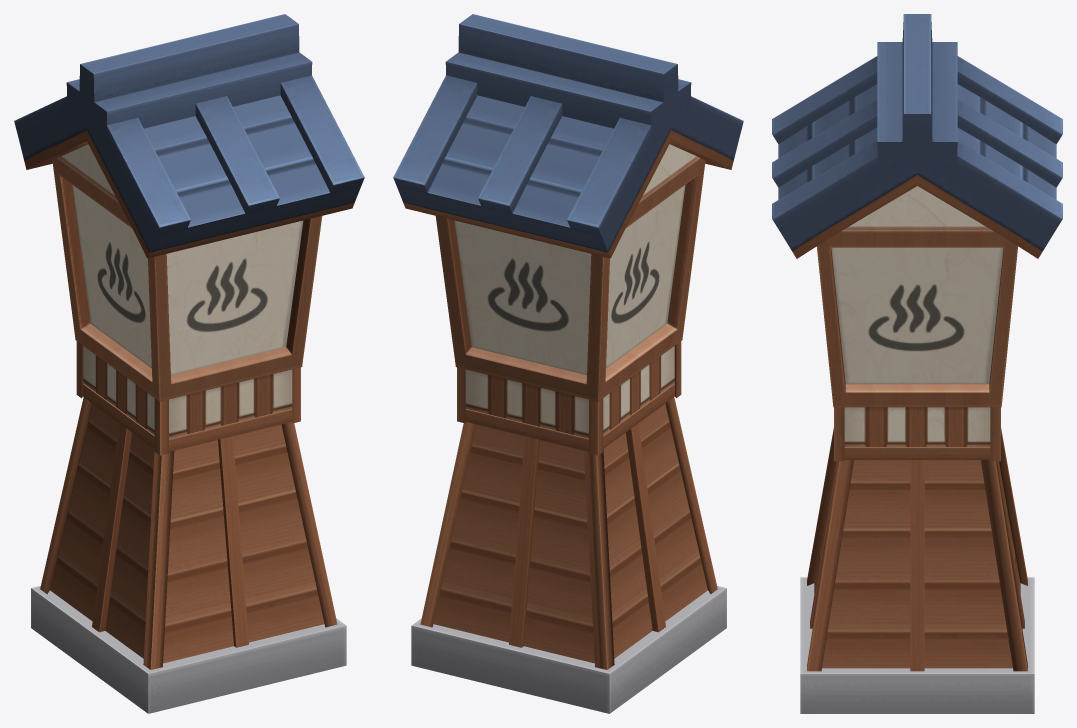
The model's file is my_hotsprings_01_light_01.glb.
3 views of the same model, side by side, from view 1: azimuth 30°, elevation 25°; view 2: azimuth 150°, elevation 25°; view 3: azimuth 270°, elevation 25° (orthographic).
Visible parts, largest first — view 1: my_hotsprings_01_light_01; view 2: my_hotsprings_01_light_01; view 3: my_hotsprings_01_light_01.
Boxes of the visible parts, left/top/right/bottom form: my_hotsprings_01_light_01: left=14, top=14, right=364, bottom=713; my_hotsprings_01_light_01: left=393, top=14, right=743, bottom=713; my_hotsprings_01_light_01: left=772, top=14, right=1062, bottom=713.
Size of the model in its own units: 0.00326 by 0.00914 by 0.004.
1 material, 1 textured.
